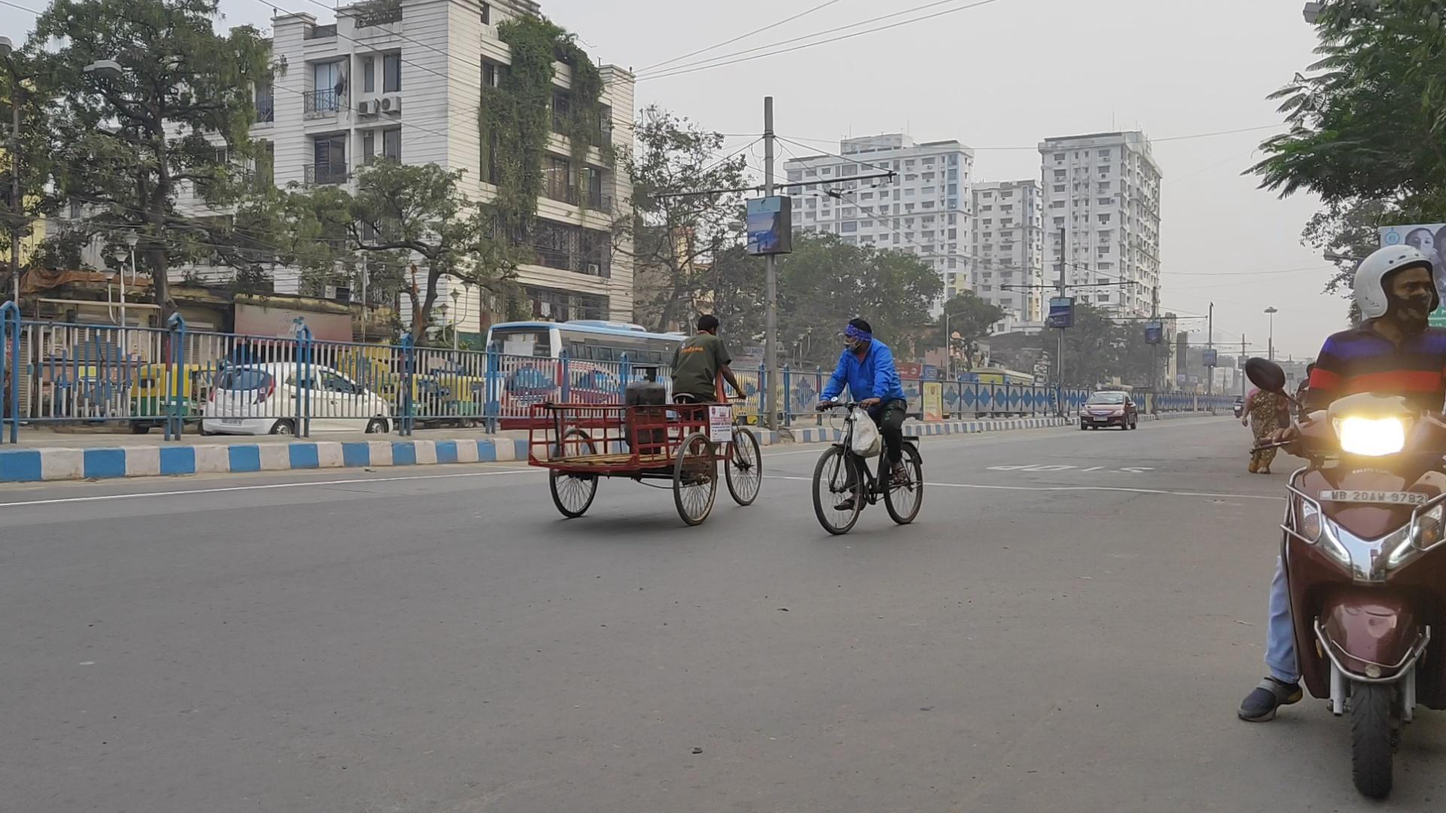bike: (1239, 245, 1446, 802), (812, 318, 925, 535), (1232, 394, 1244, 419)
car: (1080, 390, 1138, 431)
